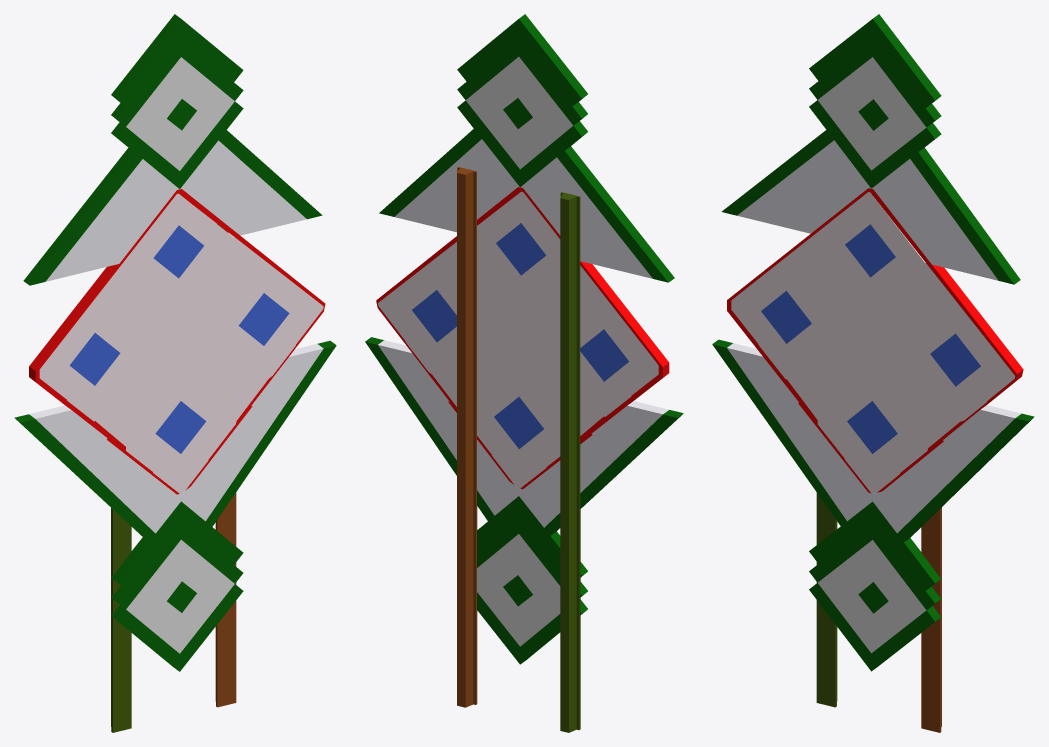
File: flag4.fbx
3 renders of one model, left to right at view 1: azimuth 30°, elevation 25°; view 2: azimuth 150°, elevation 25°; view 3: azimuth 330°, elevation 25°, orthographic.
Parts seen in each view (by area): view 1: Group1, Group2; view 2: Group1, Group2; view 3: Group1, Group2.
Part boxes in pixels (x1,y1,x2,y2): Group1: (14,14,336,671); Group2: (111,224,236,732); Group1: (365,14,683,664); Group2: (457,167,580,732); Group1: (712,14,1034,671); Group2: (816,492,941,732).
Bounding box in the file's own units: 1497 × 3184 × 107.
